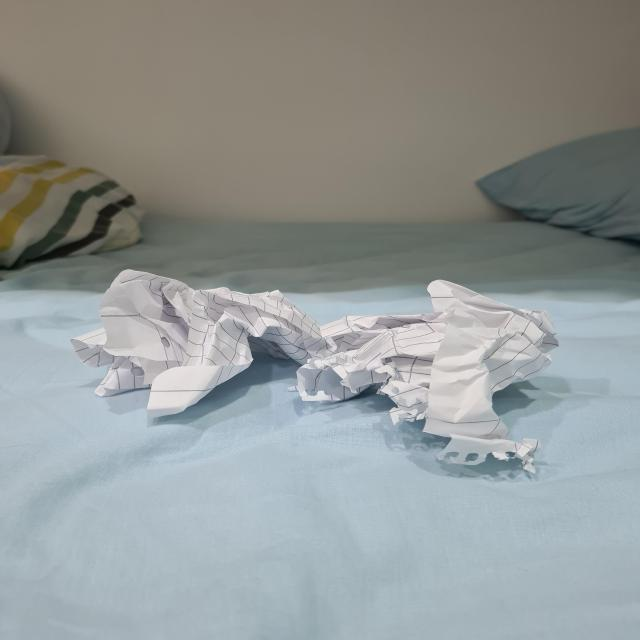cardboard paper: (71, 268, 556, 469)
